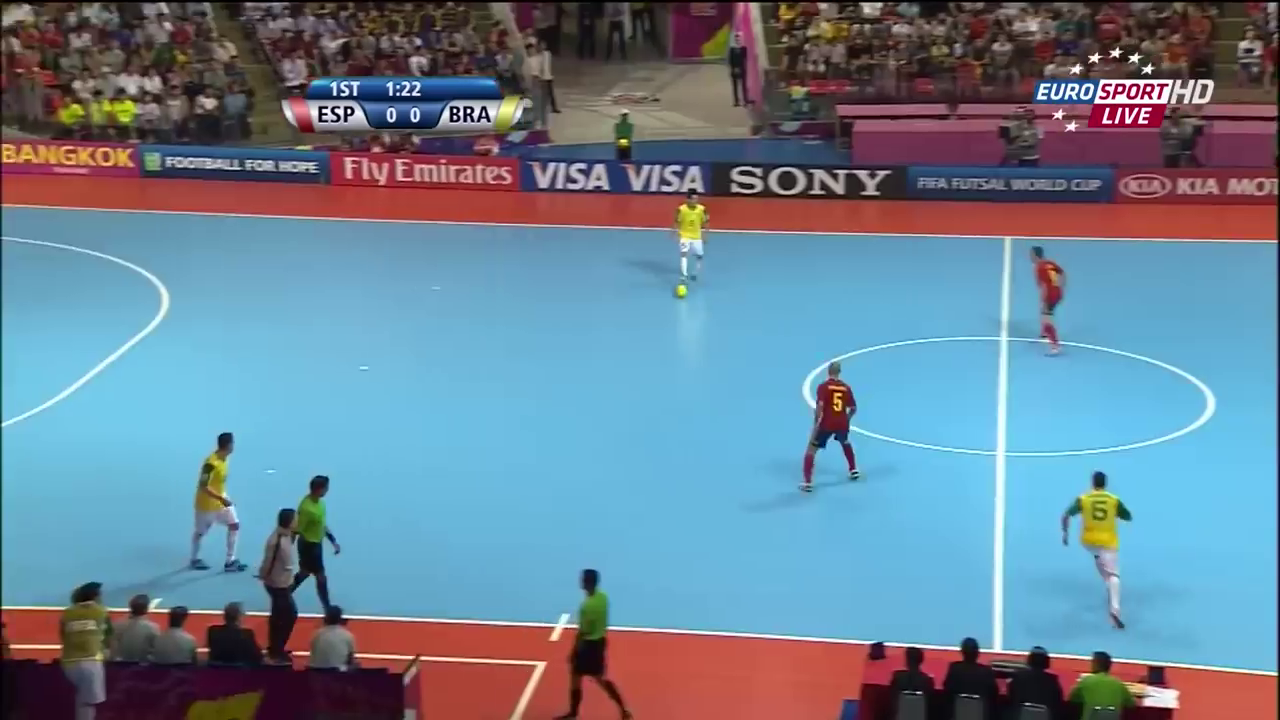ball: (669, 277, 692, 301)
person: (785, 356, 862, 494), (186, 429, 244, 579), (1023, 245, 1071, 363), (668, 193, 712, 289)
